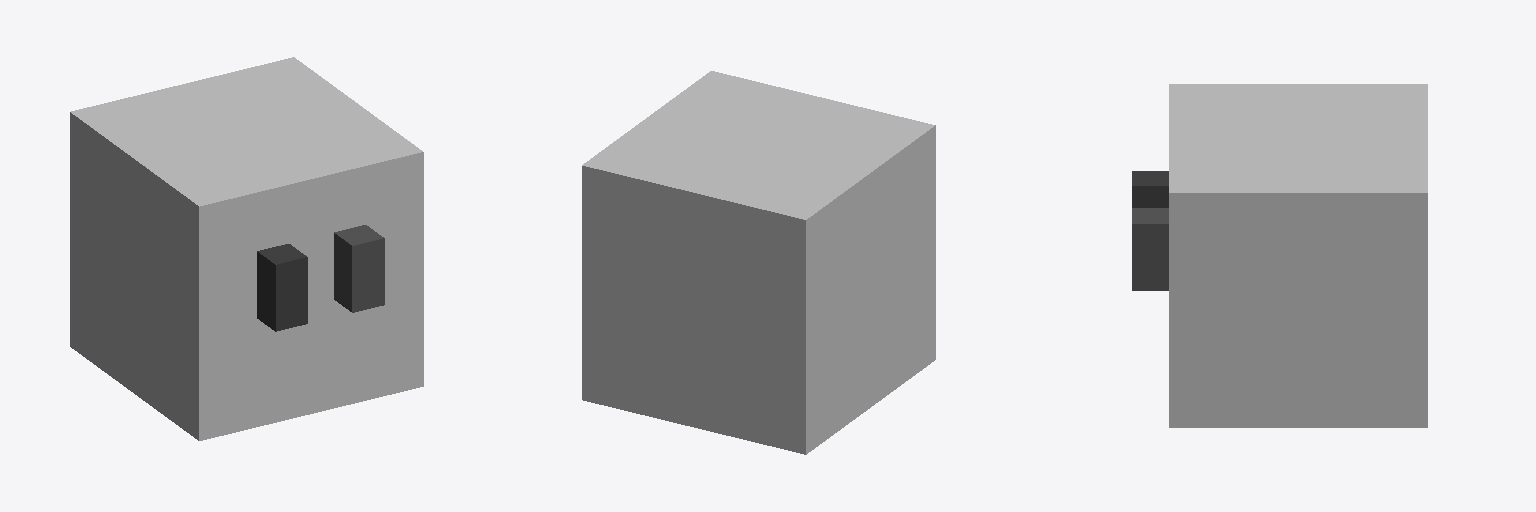
Rendered from chara_head.obj.
The picture shows the model from 3 angles: view 1: azimuth 30°, elevation 25°; view 2: azimuth 150°, elevation 25°; view 3: azimuth 270°, elevation 25°; orthographic projection.
Parts seen in each view (by area): view 1: head, lEye, rEye; view 2: head; view 3: head, lEye, rEye.
Part boxes in pixels (left/top/right/bottom): head: left=70, top=57, right=423, bottom=440; lEye: left=334, top=225, right=384, bottom=312; rEye: left=257, top=244, right=307, bottom=331; head: left=582, top=71, right=935, bottom=454; head: left=1169, top=84, right=1427, bottom=427; lEye: left=1132, top=208, right=1168, bottom=290; rEye: left=1132, top=171, right=1168, bottom=207.
Size of the model in its own units: 1.4 by 1.4 by 1.6.